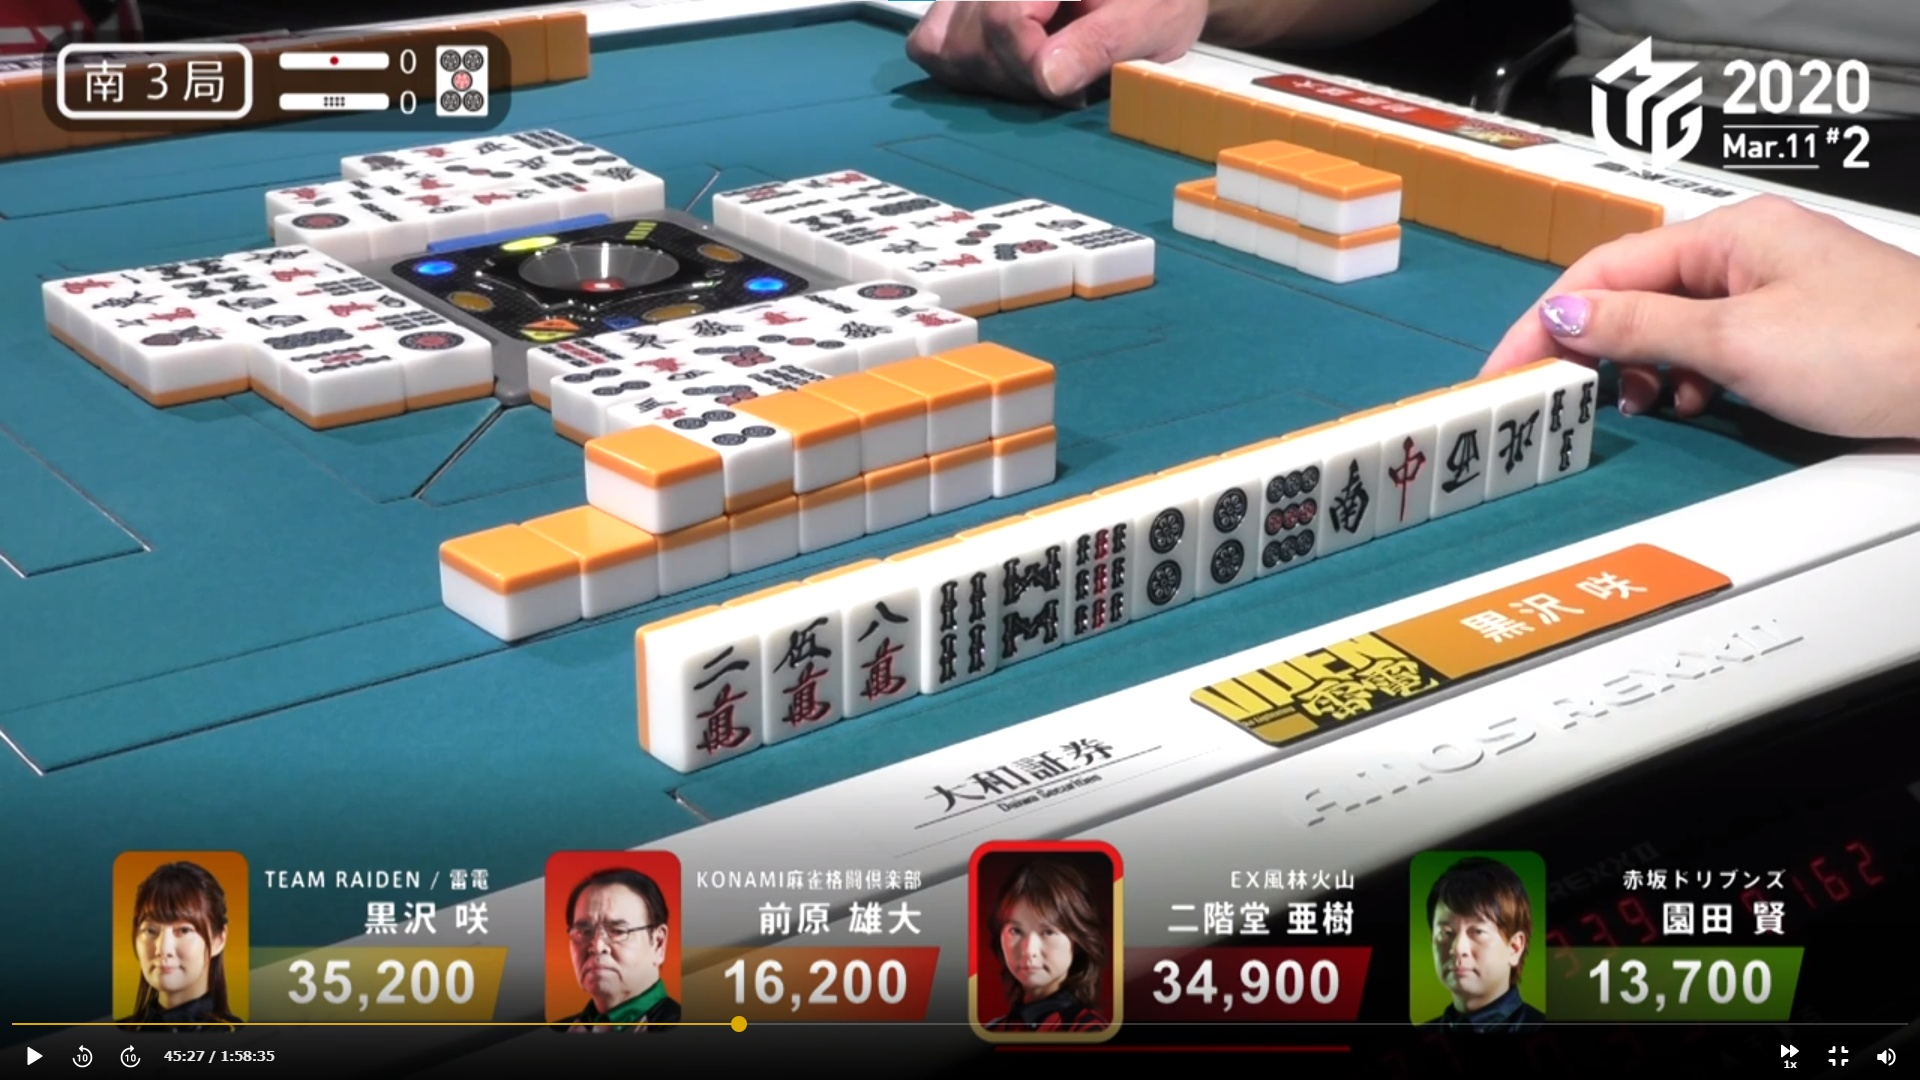2m: (680, 634, 756, 756)
2p: (1133, 500, 1193, 609), (1196, 475, 1251, 589)
3s: (1540, 375, 1593, 479)
4s: (924, 570, 984, 679)
5m: (760, 608, 836, 737)
8m: (843, 592, 918, 709)
8s: (988, 539, 1064, 659)
9p: (1259, 459, 1317, 567)
9s: (1067, 516, 1127, 637)
chun: (1375, 423, 1429, 531)
hand_nan_3: (54, 40, 256, 123)
nan: (1316, 439, 1371, 549)
pei: (1489, 397, 1539, 491)
round_0: (272, 88, 429, 123)
sha: (1428, 411, 1485, 514)
team_raiden: (1184, 624, 1458, 746)
